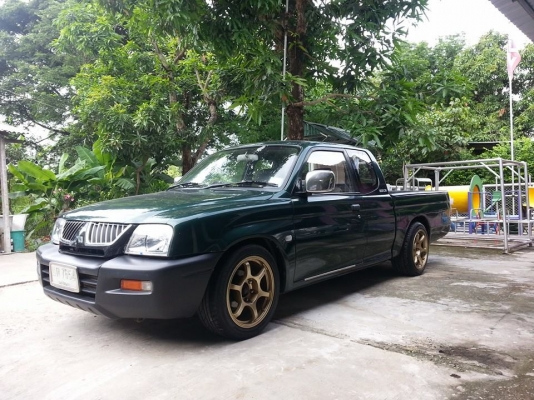pickup: (33, 135, 454, 343)
